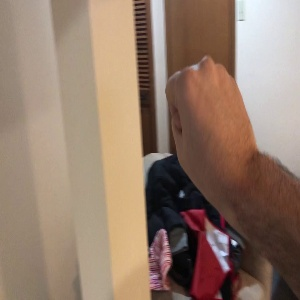hand: (166, 56, 258, 191)
